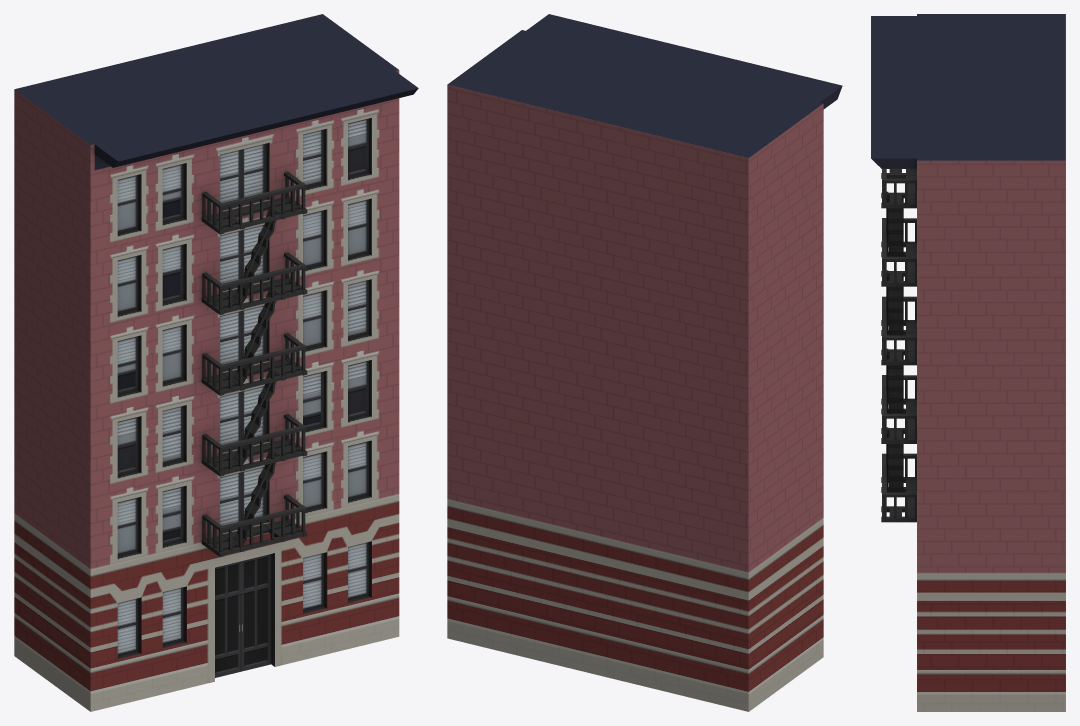
File: haus.obj
3 renders of one model, left to right at view 1: azimuth 30°, elevation 25°; view 2: azimuth 150°, elevation 25°; view 3: azimuth 270°, elevation 25°, orthographic. The views are drawn at different scales.
Visible parts, largest first — view 1: 000_Apartment_building; view 2: 000_Apartment_building; view 3: 000_Apartment_building.
Part boxes in pixels (bbox=[...]): 000_Apartment_building: bbox=[14, 14, 418, 711]; 000_Apartment_building: bbox=[447, 14, 842, 711]; 000_Apartment_building: bbox=[871, 14, 1065, 711].
Bounding box in the file's own units: 2.54 × 4.47 × 1.43.
